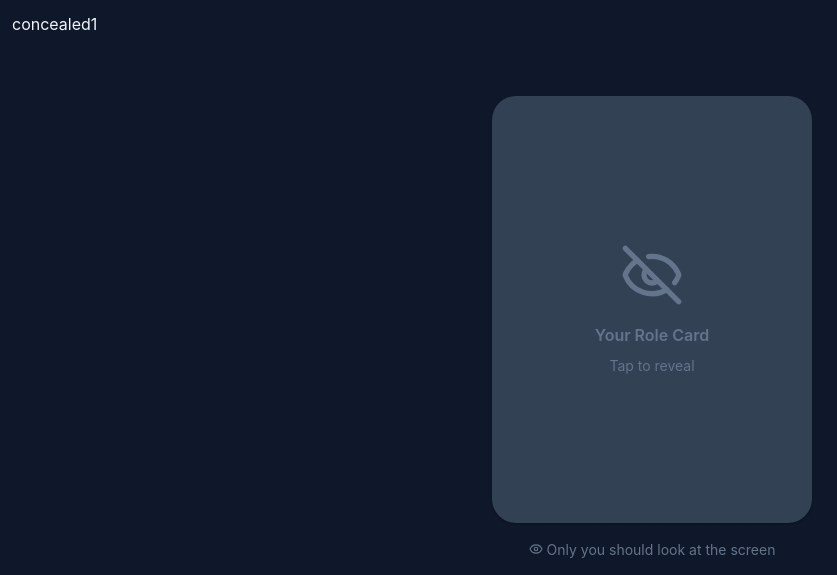
Test: RoleCard tap flow › shows the spy message for a spy player, without the word
The image size is (837, 575).
Earlier steps of the test are not shown.
Expected: the text with test id "index" reads "1", [91,14,97,34]
Click the button "Your Role Card Tap to reveal": click(652, 309) [492,96,812,523]
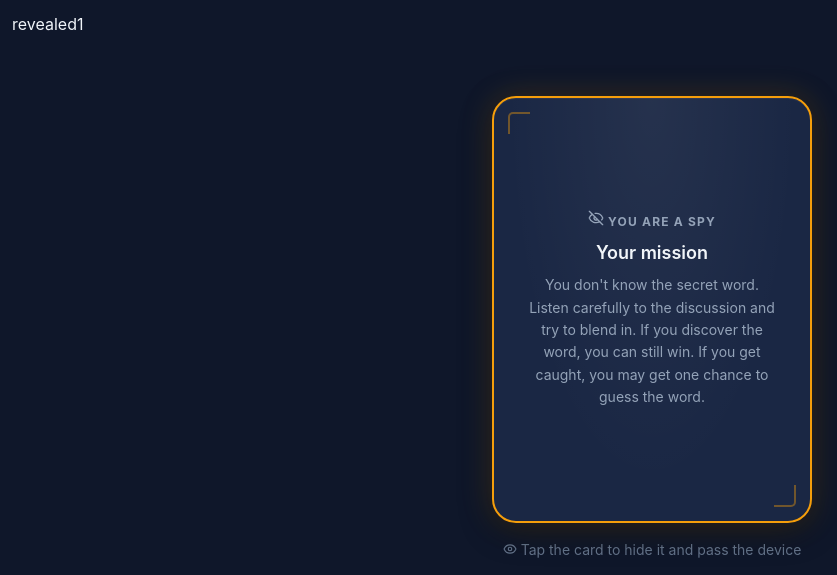
Now the text "You are a spy" is shown, box [588,210,716,231]
